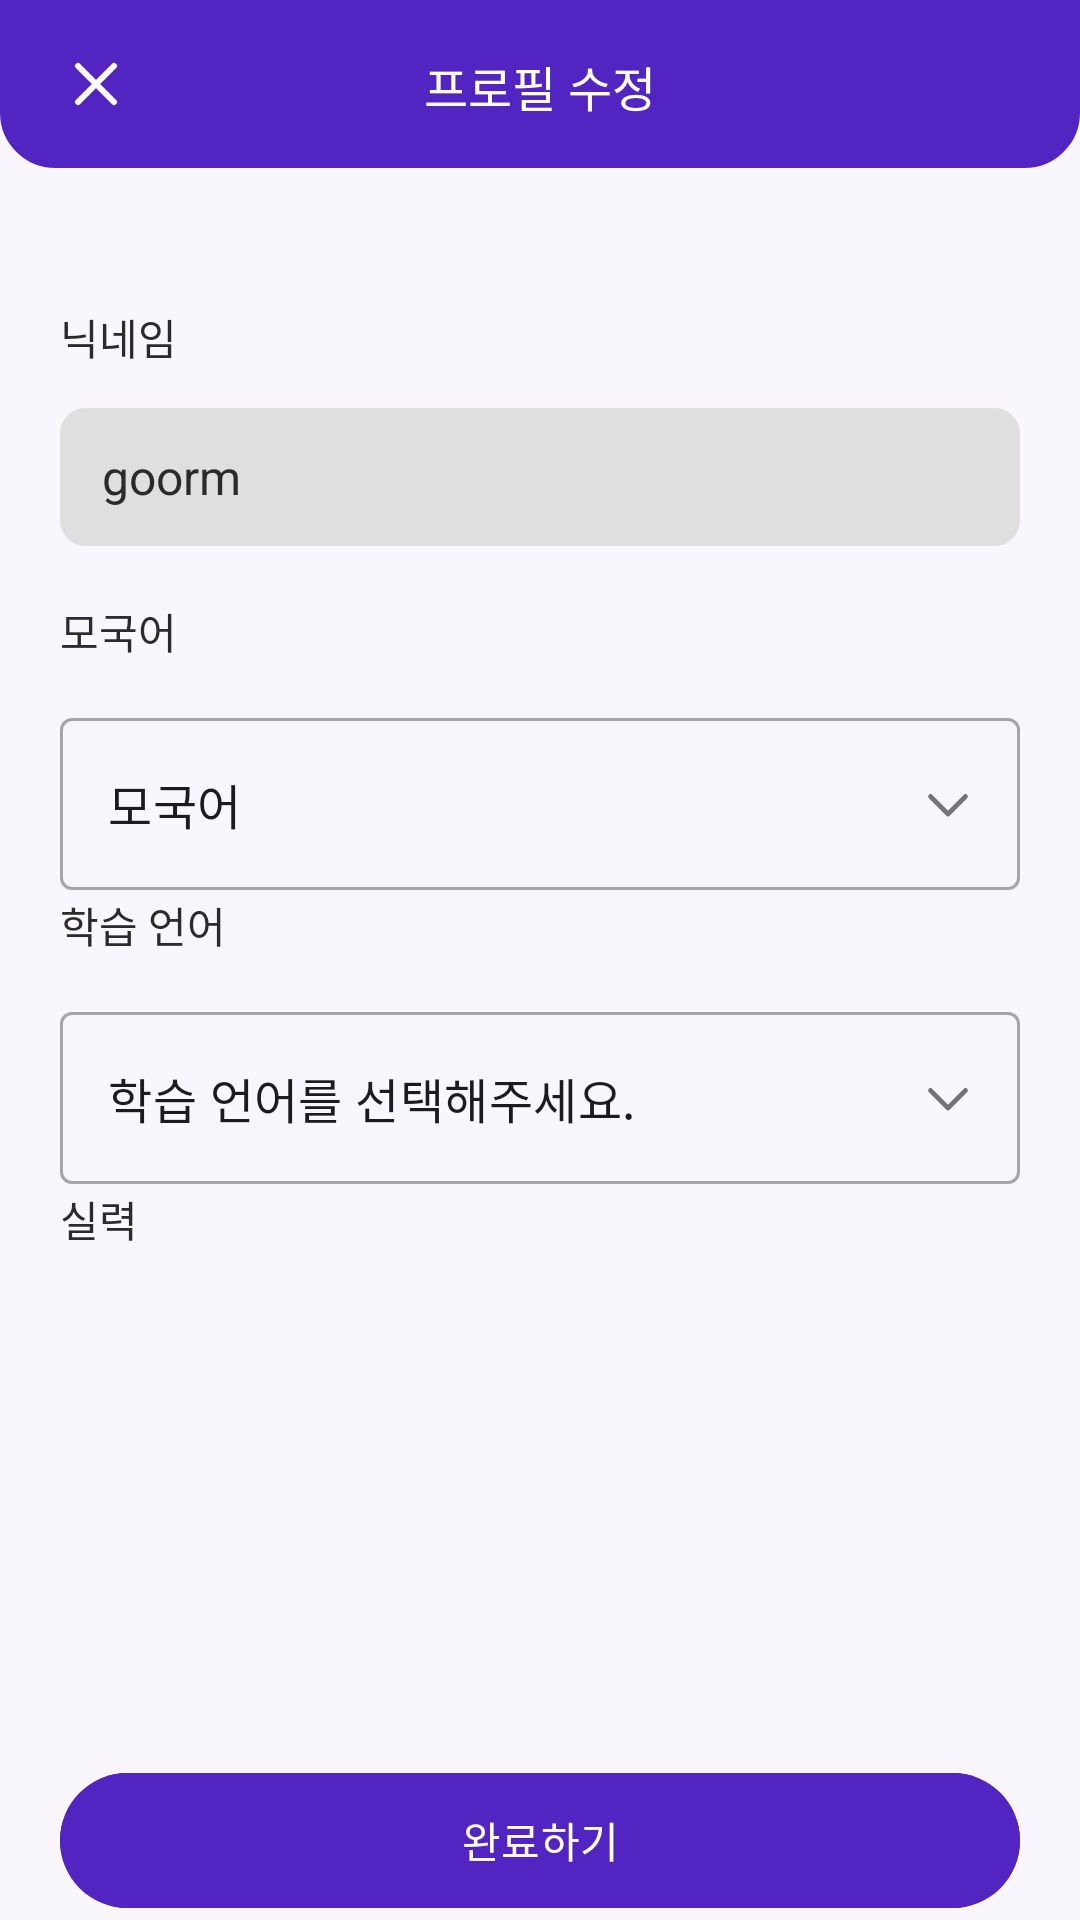

Named icons in this screenshot (1080*1920) and their centers, point (x, y):
close md: point (96, 84)
